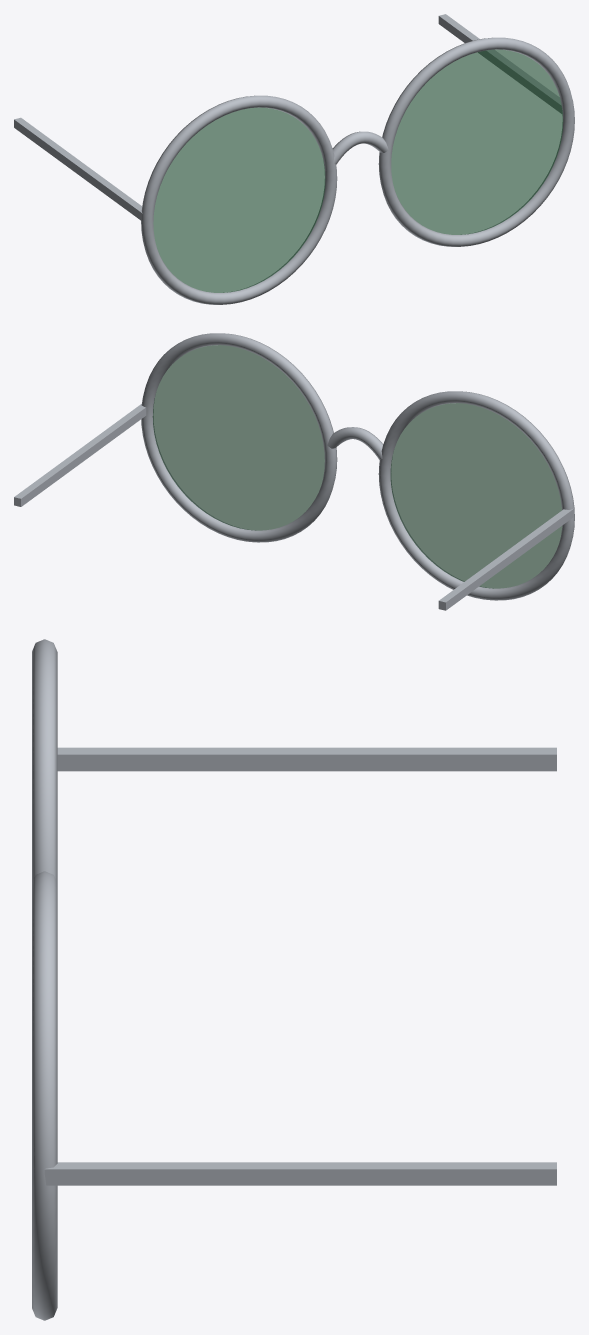
File: bloom.glb
3 renders of one model, top to bottom at view 1: azimuth 30°, elevation 25°; view 2: azimuth 150°, elevation 25°; view 3: azimuth 270°, elevation 25°, orthographic. The views are drawn at different scales.
Parts seen in each view (by area): view 1: lens (×2), object 1, object 4, object 3, object 6, object 7; view 2: lens (×2), object 4, object 1, object 3, object 6, object 7; view 3: object 3, object 6, object 4, object 1.
Part boxes in pixels (x1,y1,x2,y2): lens (×2): (153, 49, 563, 292); object 1: (141, 95, 337, 304); object 4: (378, 37, 574, 246); object 3: (14, 117, 142, 220); object 6: (438, 14, 561, 113); object 7: (332, 131, 388, 164); lens (×2): (152, 345, 562, 588); object 4: (141, 333, 337, 542); object 1: (378, 391, 574, 600); object 3: (438, 508, 573, 610); object 6: (14, 403, 146, 506); object 7: (327, 427, 383, 459); object 3: (57, 747, 556, 771); object 6: (44, 1162, 556, 1185); object 4: (32, 871, 57, 1320); object 1: (32, 639, 57, 883).
Size of the model in its own units: 2.73 by 1.23 by 1.43.
